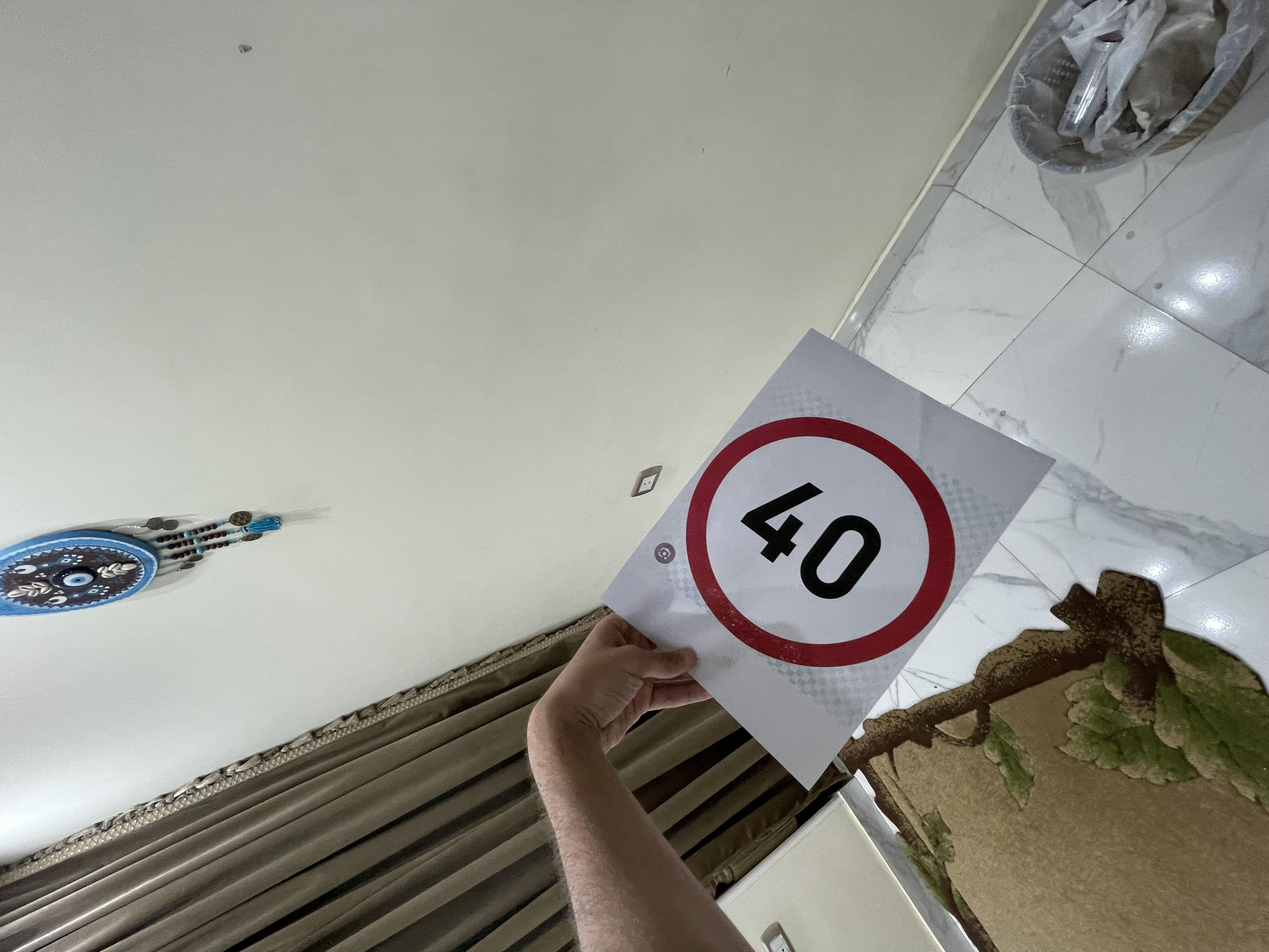40-Speed: (383, 513, 714, 715)
